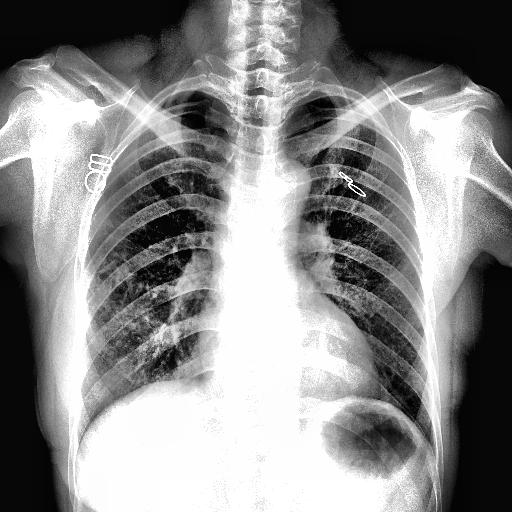0- Aortic enlargement: (256, 156, 312, 220)
13- Pulmonary fibrosis: (81, 254, 184, 378)
3- Cardiomegaly: (196, 321, 378, 402)
5- ILD: (81, 254, 184, 378)
6- Infiltration: (81, 254, 178, 374), (84, 254, 172, 380)
7- Lung Opacity: (81, 254, 184, 378), (81, 254, 178, 374)
